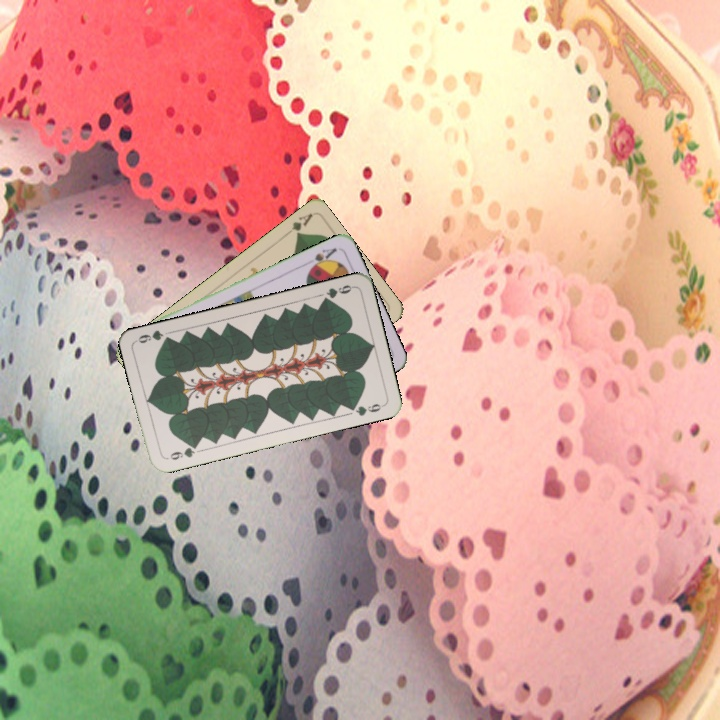G9: (318, 281, 356, 305), (166, 440, 201, 462)
GA: (287, 210, 315, 239)
SA: (305, 244, 339, 273)
